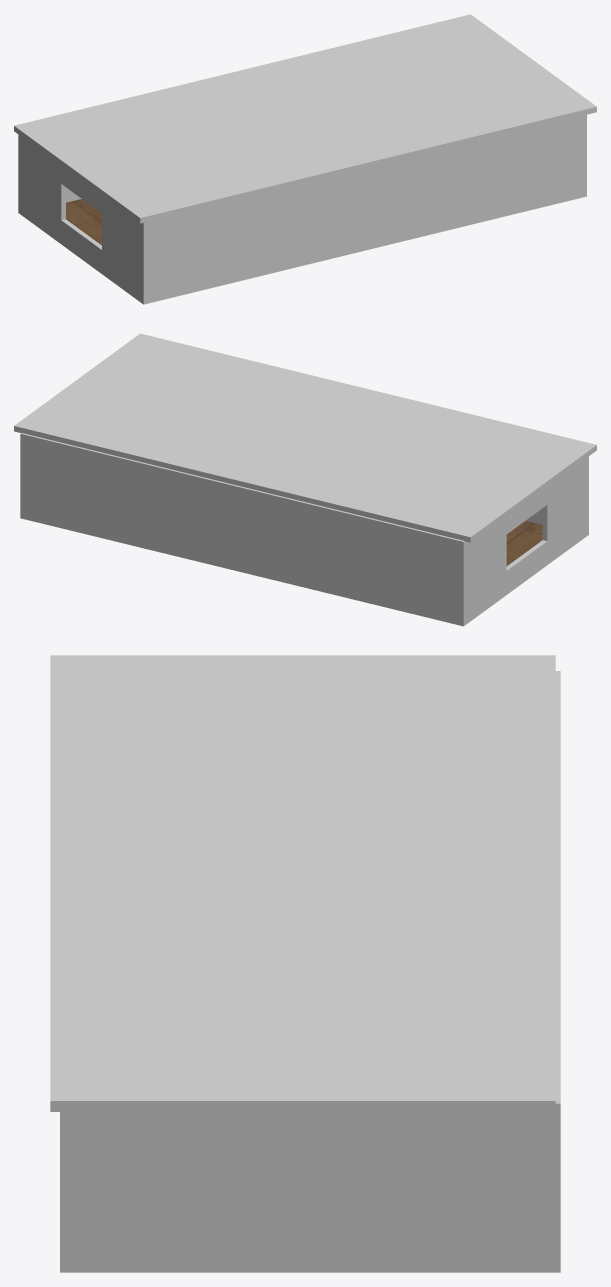
The picture shows the model from 3 angles, top to bottom: view 1: azimuth 30°, elevation 25°; view 2: azimuth 150°, elevation 25°; view 3: azimuth 270°, elevation 25°; orthographic projection. The views are drawn at different scales.
Visible parts, largest first — view 1: roof, Wall_00, Floor; view 2: roof, Wall_00, Floor; view 3: roof, Wall_00.
Boxes of the visible parts, x1,y1,x2,y2 form: roof: (14, 14, 596, 223); Wall_00: (18, 114, 586, 304); Floor: (66, 199, 101, 245); roof: (14, 333, 596, 542); Wall_00: (20, 433, 588, 626); Floor: (506, 520, 542, 565); roof: (50, 655, 555, 1111); Wall_00: (60, 671, 560, 1272).
Size of the model in its own units: 25.99 by 4.87 by 12.57.
11 materials, 8 textured.
